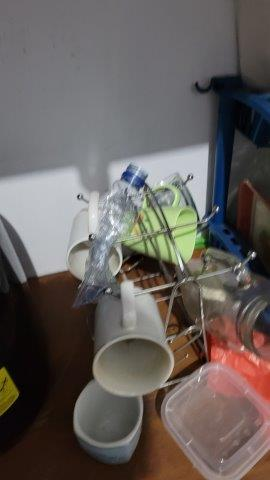botolplastik: (67, 162, 142, 308)
